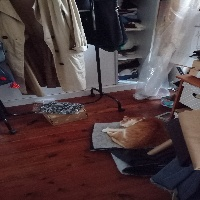asleep: (102, 116, 171, 149)
